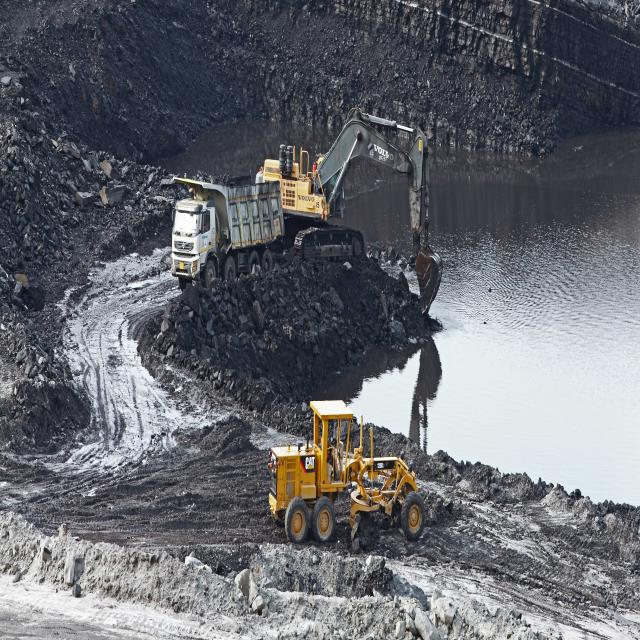buldozerpayloadergrader: (254, 396, 436, 556)
dump_truck: (162, 170, 284, 290)
excavator: (261, 109, 456, 310)
